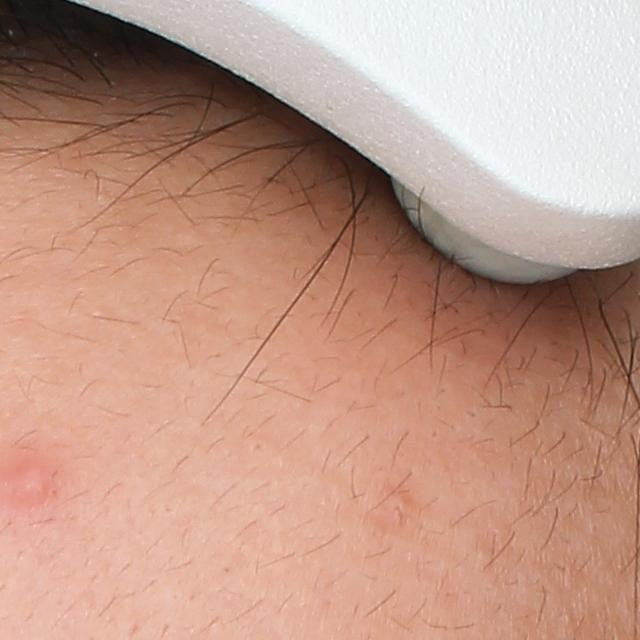papule: (8, 457, 61, 507)
